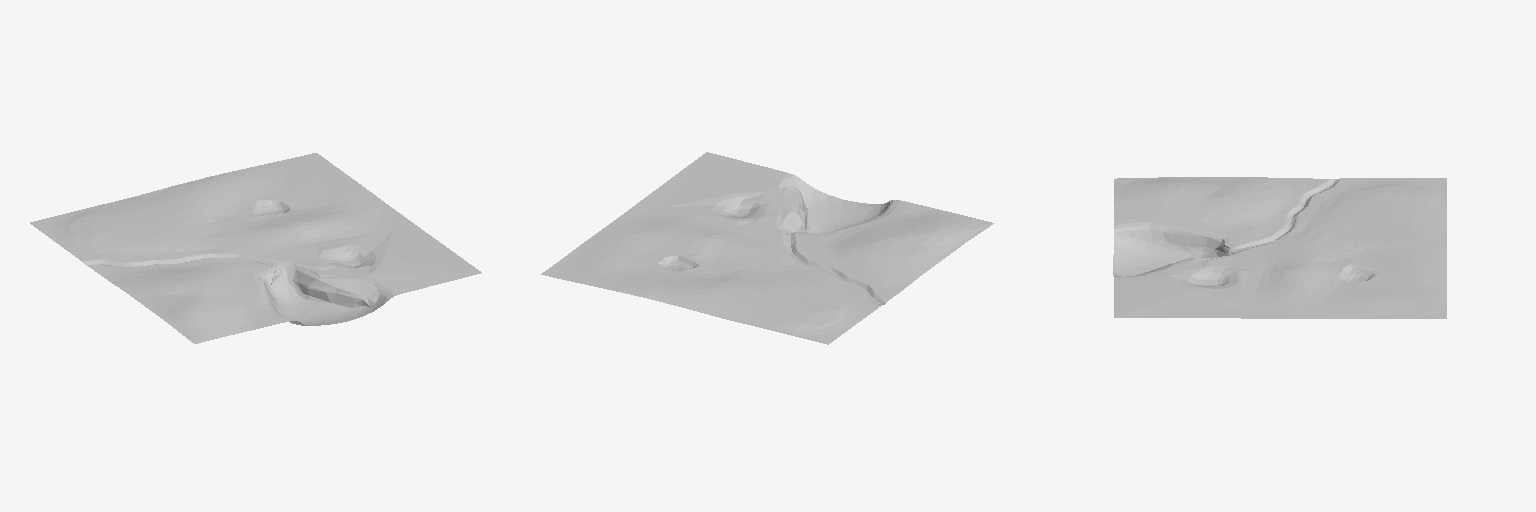
File: World mesh.obj
3 views of the same model, side by side, from view 1: azimuth 30°, elevation 25°; view 2: azimuth 150°, elevation 25°; view 3: azimuth 270°, elevation 25° (orthographic).
Parts seen in each view (by area): view 1: World_collider; view 2: World_collider; view 3: World_collider.
Boxes of the visible parts, box(x1,y1,x2,y2) form: World_collider: box(30, 153, 481, 343); World_collider: box(541, 152, 993, 344); World_collider: box(1113, 177, 1446, 318).
Size of the model in its own units: 39.88 by 3.48 by 40.